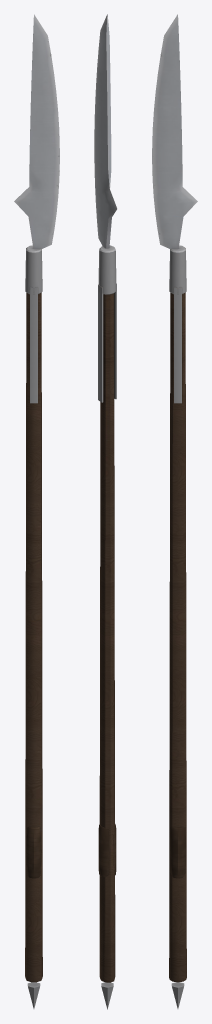
The model's file is glaive.glb.
The picture shows the model from 3 angles, left to right: view 1: azimuth 90°, elevation 25°; view 2: azimuth 210°, elevation 25°; view 3: azimuth 270°, elevation 25°; orthographic projection.
Visible parts, largest first — view 1: SM_V_glaive; view 2: SM_V_glaive; view 3: SM_V_glaive.
Part boxes in pixels (x1,y1,x2,y2): SM_V_glaive: [14, 14, 59, 1008]; SM_V_glaive: [94, 14, 117, 1009]; SM_V_glaive: [152, 14, 197, 1008].
Bounding box in the file's own units: 0.0468 × 2.77 × 0.1151.
Materials: 1 (1 with a texture image).
